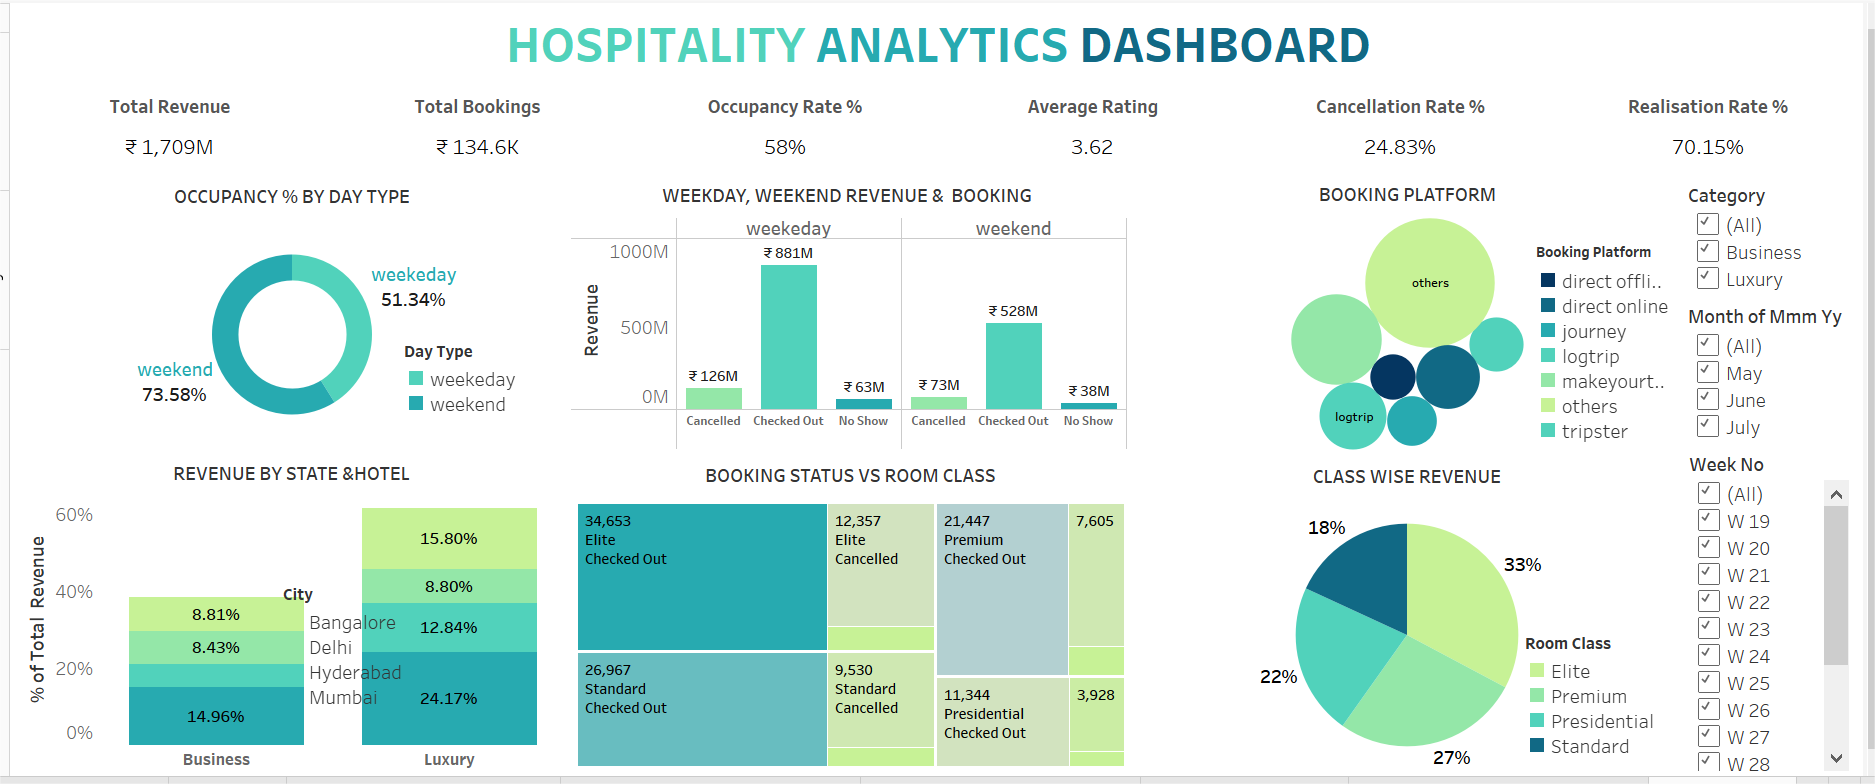

What the dashboard file says about the page in this screenshot:
{"tool":"tableau","page":{"name":"Dashboard 1","canvas":[1000,1000],"units":"permille","ordinal":0},"visuals":[{"type":"text","box":[4.9,10.3,992.4,81.5]},{"type":"worksheet","title":"CARDS","mark":"Automatic","box":[3.2,97,996.2,125.5]},{"type":"worksheet","title":"BOOKING PLATFORM","mark":"Circle","box":[608.2,225.1,292,353.2]},{"type":"worksheet","title":"WEEKDAY, WEEKEND REVENUE &  BOOKING ","mark":"Bar","rows":["Calculation_716072345553567748"],"cols":["day_type","booking_status"],"box":[302.8,226.4,300.1,351.9]},{"type":"worksheet","title":"OCCUPANCY % BY DAY TYPE","mark":"Circle","rows":["Calculation_621215278790971401","Calculation_621215278790971401"],"box":[4.3,227.7,295.7,350.6]},{"type":"filter","title":"BOOKING PLATFORM","param":"[federated.11n6qqf1s43xcl12tw96p0dtwprl].[none:category:nk]","box":[905.6,231.6,86.4,146.2]},{"type":"legend","title":"BOOKING PLATFORM","param":"[federated.11n6qqf1s43xcl12tw96p0dtwprl].[none:booking_platform:nk]","box":[823.5,309.2,73.9,267.8]},{"type":"filter","title":"BOOKING PLATFORM","param":"[federated.11n6qqf1s43xcl12tw96p0dtwprl].[mn:mmm yy:ok]","box":[905.6,388.1,86.4,181.1]},{"type":"legend","title":"OCCUPANCY % BY DAY TYPE","param":"[federated.11n6qqf1s43xcl12tw96p0dtwprl].[none:day_type:nk]","box":[212.6,436,75.5,102.2]},{"type":"filter","title":"BOOKING PLATFORM","param":"[federated.11n6qqf1s43xcl12tw96p0dtwprl].[none:week no:nk]","box":[906.1,579.6,86.4,414]},{"type":"worksheet","title":"REVENUE BY STATE &HOTEL","mark":"Bar","rows":["Calculation_716072345553567748"],"cols":["category"],"box":[3.8,586,296.3,407.5]},{"type":"worksheet","title":"BOOKING STATUS VS ROOM CLASS","mark":"Automatic","box":[303.3,588.6,300.6,406.2]},{"type":"worksheet","title":"CLASS WISE REVENUE","mark":"Pie","box":[607.1,589.9,293.6,403.6]},{"type":"legend","title":"REVENUE BY STATE &HOTEL","param":"[federated.11n6qqf1s43xcl12tw96p0dtwprl].[none:city:nk]","box":[147.3,750.3,71.8,208.3]},{"type":"legend","title":"CLASS WISE REVENUE","param":"[federated.11n6qqf1s43xcl12tw96p0dtwprl].[none:room_class:nk]","box":[817.6,813.7,73.4,172.1]}]}

Visuals, with their boxes on the dashboard's canvas, which has no fixed pixel size, in thousandths of its width and height (x1, y1, x2, y2). These are canvas units, not pixel positions in the 1875x784 screenshot, which may show the page scaled, cropped or inside an application window:
text: box(5, 10, 997, 92)
"CARDS" worksheet: box(3, 97, 999, 222)
"BOOKING PLATFORM" worksheet (Circle marks): box(608, 225, 900, 578)
"WEEKDAY, WEEKEND REVENUE &  BOOKING " worksheet (Bar marks): box(303, 226, 603, 578)
"OCCUPANCY % BY DAY TYPE" worksheet (Circle marks): box(4, 228, 300, 578)
"BOOKING PLATFORM" filter: box(906, 232, 992, 378)
"BOOKING PLATFORM" legend: box(824, 309, 897, 577)
"BOOKING PLATFORM" filter: box(906, 388, 992, 569)
"OCCUPANCY % BY DAY TYPE" legend: box(213, 436, 288, 538)
"BOOKING PLATFORM" filter: box(906, 580, 992, 994)
"REVENUE BY STATE &HOTEL" worksheet (Bar marks): box(4, 586, 300, 994)
"BOOKING STATUS VS ROOM CLASS" worksheet: box(303, 589, 604, 995)
"CLASS WISE REVENUE" worksheet (Pie marks): box(607, 590, 901, 994)
"REVENUE BY STATE &HOTEL" legend: box(147, 750, 219, 959)
"CLASS WISE REVENUE" legend: box(818, 814, 891, 986)
